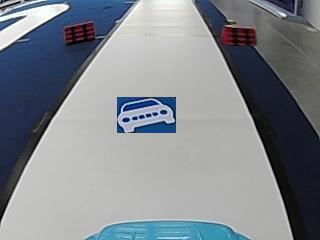bomb: (63, 19, 95, 43)
